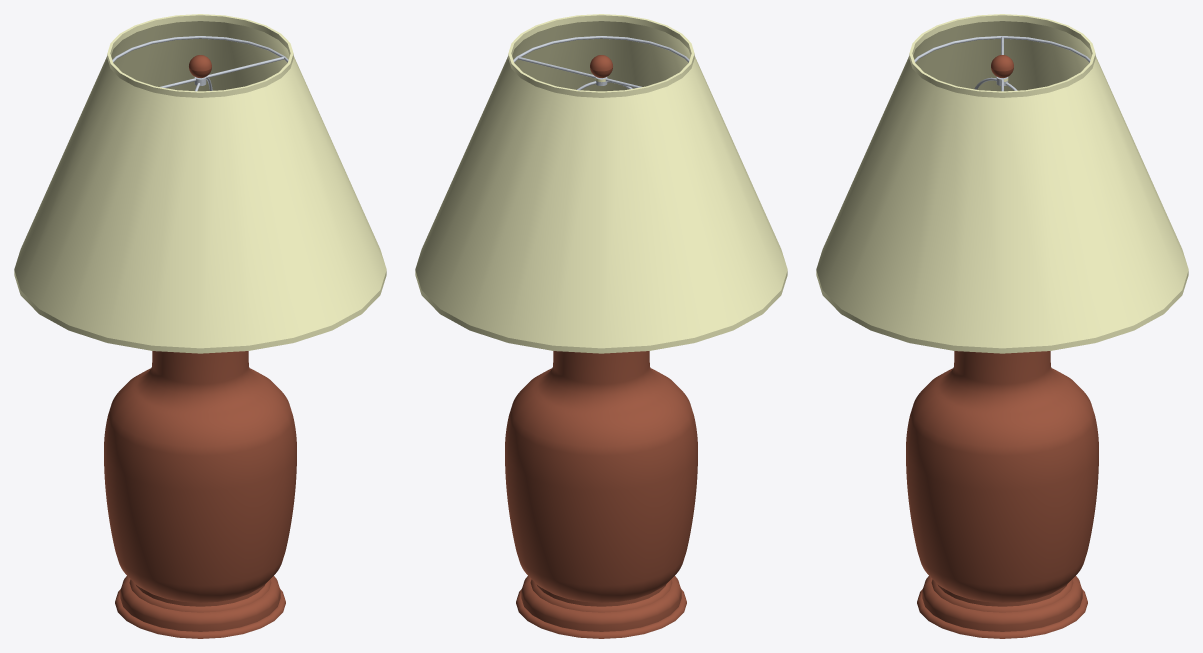
The model's file is lamp.dae.
The picture shows the model from 3 angles, left to right: view 1: azimuth 30°, elevation 25°; view 2: azimuth 150°, elevation 25°; view 3: azimuth 270°, elevation 25°; orthographic projection.
Visible parts, largest first — view 1: Group5, Group3; view 2: Group5, Group3; view 3: Group5, Group3.
Boxes of the visible parts, bbox=[...] form: Group5: bbox=[14, 14, 386, 353]; Group3: bbox=[104, 351, 296, 638]; Group5: bbox=[415, 14, 787, 353]; Group3: bbox=[505, 351, 697, 638]; Group5: bbox=[816, 14, 1188, 353]; Group3: bbox=[906, 351, 1098, 638].
Bounding box in the file's own units: 16 × 16 × 26.04.
Materials: 9 (2 with a texture image).
